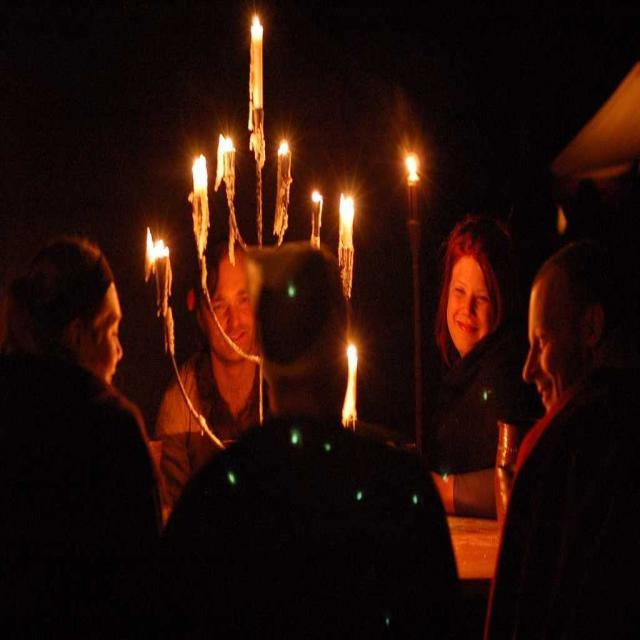Fire: (186, 152, 212, 190), (337, 192, 358, 214), (216, 134, 237, 155), (146, 238, 170, 256), (406, 148, 420, 176), (250, 12, 266, 30), (277, 140, 294, 156), (343, 341, 360, 356), (310, 190, 326, 200)
